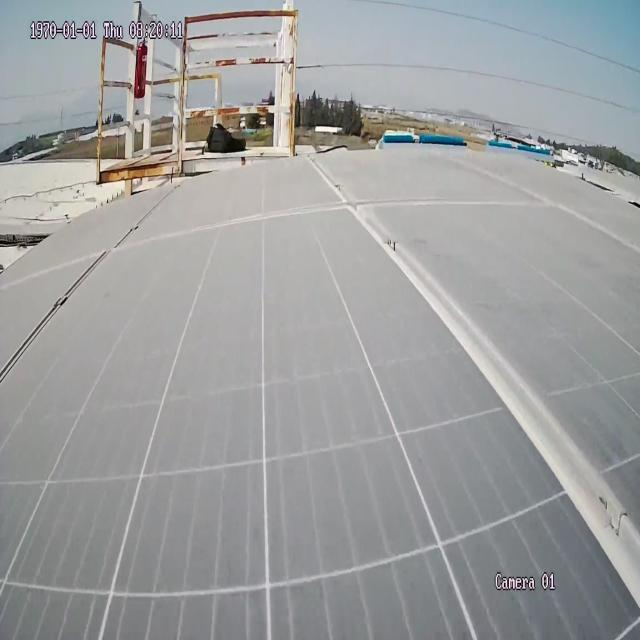interior panel: (298, 142, 640, 622), (0, 183, 194, 403)
outher panel: (0, 221, 61, 291)
